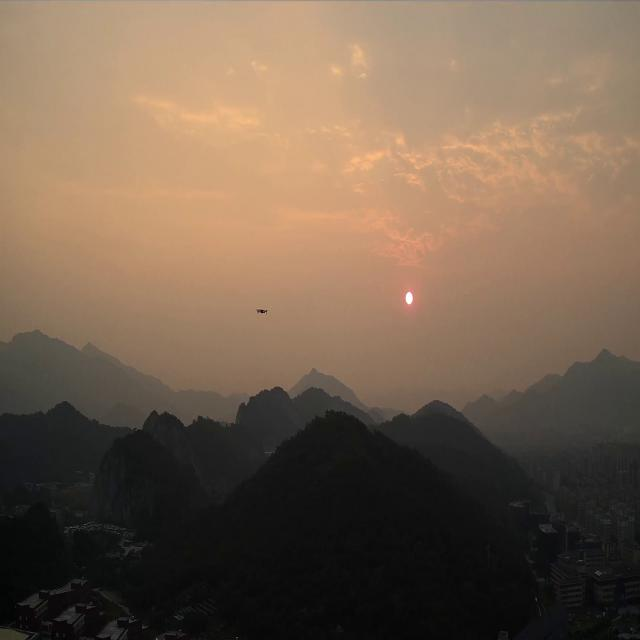drone: (255, 307, 269, 315)
